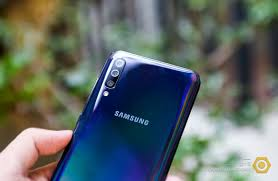samsung: (45, 48, 205, 181)
